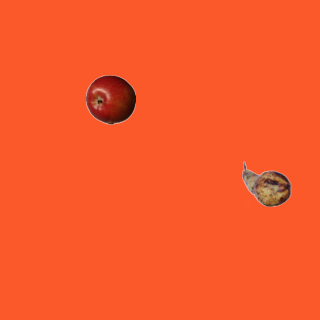Apple Braeburn: (85, 74, 135, 124)
Pear Abate: (241, 159, 291, 209)
